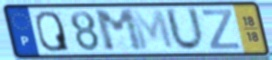8: (68, 8, 102, 53)
M: (92, 7, 147, 53), (129, 9, 177, 52)
Q: (34, 9, 72, 53)
U: (162, 6, 207, 54)
Z: (200, 7, 242, 50)
